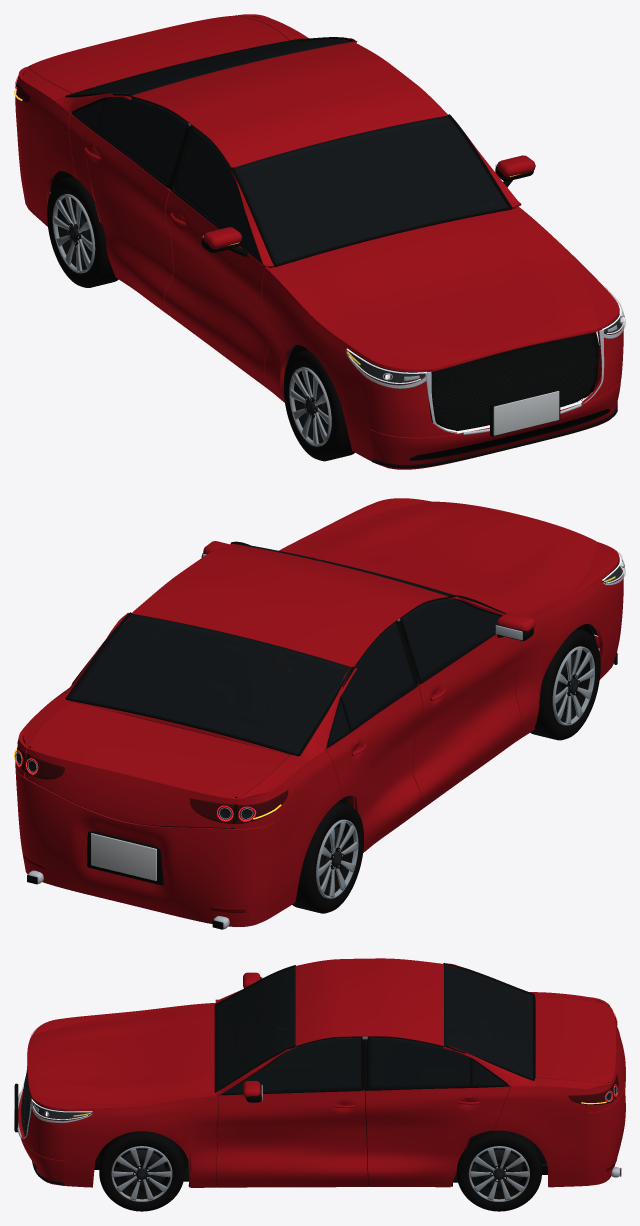
File: vehicle.glb
The picture shows the model from 3 angles, top to bottom: view 1: azimuth 30°, elevation 25°; view 2: azimuth 150°, elevation 25°; view 3: azimuth 270°, elevation 25°; orthographic projection. The views are drawn at different scales.
Parts seen in each view (by area): view 1: VehicleRoot_BodyPaint, VehicleRoot_WindowGlass, VehicleRoot_GrilleBlack, door_frontRight_BodyPaint, door_rearRight_BodyPaint, trunk_BodyPaint, DoorGlassrearRight, VehicleRoot_WheelInner, DoorGlassfrontRight, Tyre.002, Tyre.003, VehicleRoot_WindowSeals (+7 smaller); view 2: VehicleRoot_BodyPaint, VehicleRoot_WindowGlass, trunk_BodyPaint, door_frontRight_BodyPaint, door_rearRight_BodyPaint, DoorGlassfrontRight, DoorGlassrearRight, Tyre.003, Tyre.002, VehicleRoot_WindowSeals, VehicleRoot_PlateWhite, wheel_frontRight_WheelSilver (+6 smaller); view 3: VehicleRoot_BodyPaint, door_frontLeft_BodyPaint, VehicleRoot_WindowGlass, door_rearLeft_BodyPaint, trunk_BodyPaint, DoorGlassrearLeft, DoorGlassfrontLeft, Tyre, Tyre.001, VehicleRoot_WindowSeals, wheel_rearLeft_WheelSilver, wheel_frontLeft_WheelSilver (+9 smaller).
Part boxes in pixels (box(x1,y1,x2,y2)): VehicleRoot_BodyPaint: box(15, 14, 623, 469); VehicleRoot_WindowGlass: box(74, 39, 508, 264); VehicleRoot_GrilleBlack: box(348, 314, 621, 468); door_frontRight_BodyPaint: box(164, 190, 269, 390); door_rearRight_BodyPaint: box(68, 113, 173, 316); trunk_BodyPaint: box(27, 15, 288, 93); DoorGlassrearRight: box(74, 97, 186, 185); VehicleRoot_WheelInner: box(16, 79, 596, 430); DoorGlassfrontRight: box(173, 126, 260, 260); Tyre.002: box(283, 349, 354, 461); Tyre.003: box(47, 176, 118, 287); VehicleRoot_WindowSeals: box(29, 15, 598, 368); VehicleRoot_BodyPaint: box(15, 498, 623, 926); VehicleRoot_WindowGlass: box(69, 543, 453, 753); trunk_BodyPaint: box(25, 702, 289, 828); door_frontRight_BodyPaint: box(412, 612, 535, 814); door_rearRight_BodyPaint: box(325, 686, 422, 852); DoorGlassfrontRight: box(402, 598, 500, 681); DoorGlassrearRight: box(328, 622, 415, 744); Tyre.003: box(292, 801, 363, 913); Tyre.002: box(530, 628, 600, 740); VehicleRoot_WindowSeals: box(26, 541, 596, 828); VehicleRoot_PlateWhite: box(91, 833, 156, 880); wheel_frontRight_WheelSilver: box(552, 646, 594, 725); VehicleRoot_BodyPaint: box(18, 958, 625, 1187); door_frontLeft_BodyPaint: box(216, 1081, 367, 1187); VehicleRoot_WindowGlass: box(216, 964, 532, 1089); door_rearLeft_BodyPaint: box(365, 1086, 510, 1187); trunk_BodyPaint: box(536, 997, 625, 1103); DoorGlassrearLeft: box(369, 1037, 506, 1089); DoorGlassfrontLeft: box(223, 1037, 361, 1093); Tyre: box(99, 1131, 184, 1211); Tyre.001: box(456, 1130, 541, 1211); VehicleRoot_WindowSeals: box(94, 963, 613, 1174); wheel_rearLeft_WheelSilver: box(468, 1146, 529, 1201); wheel_frontLeft_WheelSilver: box(111, 1146, 172, 1201).
Bounding box in the file's own units: 2.16 × 1.43 × 4.67.
